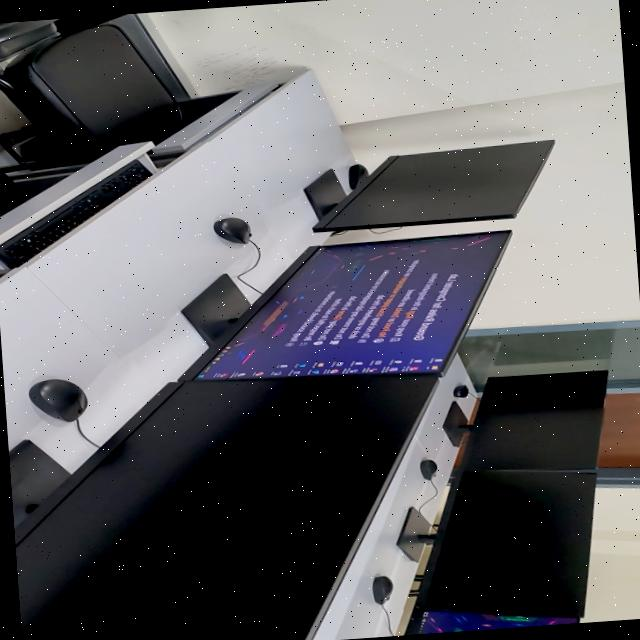Chair: (0, 22, 180, 168)
Keyboard: (0, 159, 151, 267)
Monitor: (14, 344, 439, 640), (191, 230, 509, 378), (415, 463, 596, 616), (313, 139, 553, 232), (462, 370, 606, 469), (418, 609, 578, 634), (29, 378, 88, 421)
Mouse: (29, 378, 87, 421), (213, 216, 251, 243), (373, 574, 393, 604), (348, 163, 368, 189), (420, 459, 437, 478), (453, 384, 468, 396)
